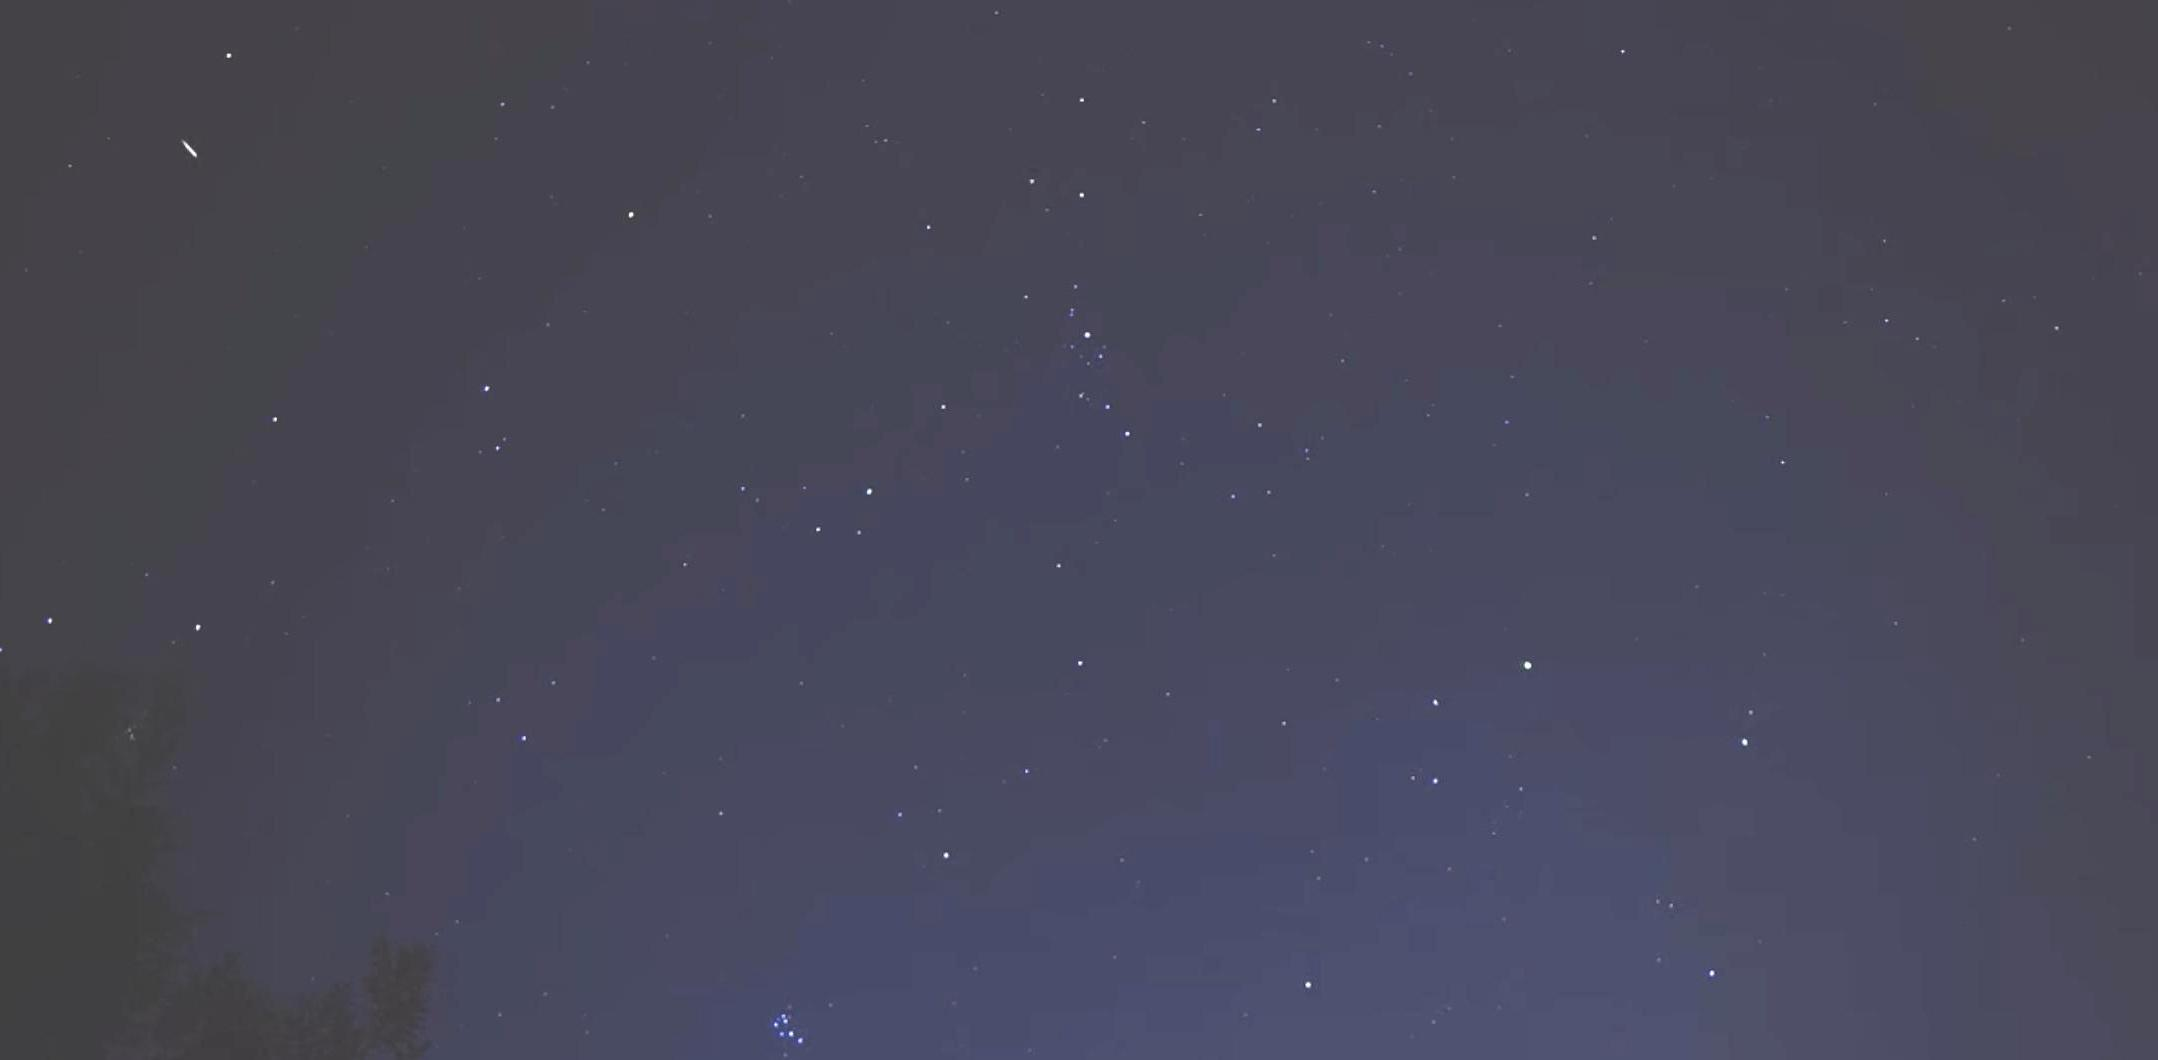meteorite: (145, 127, 231, 173)
